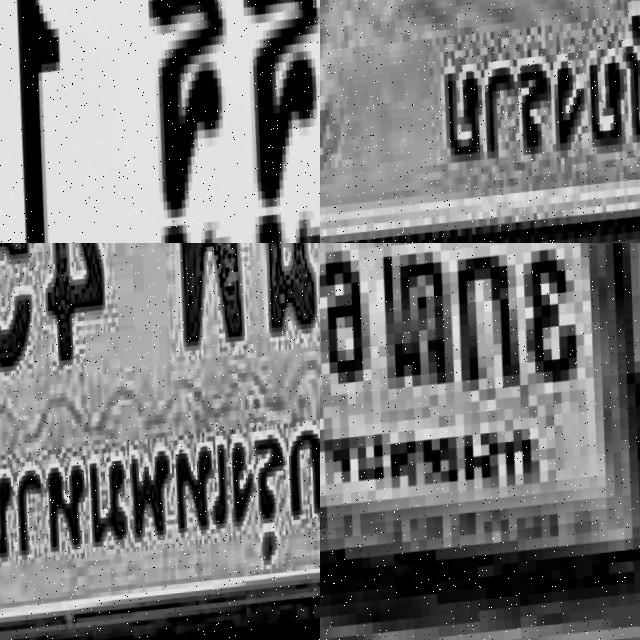license-plate: (0, 243, 320, 640), (320, 243, 640, 624), (0, 0, 320, 243), (320, 0, 640, 243)
